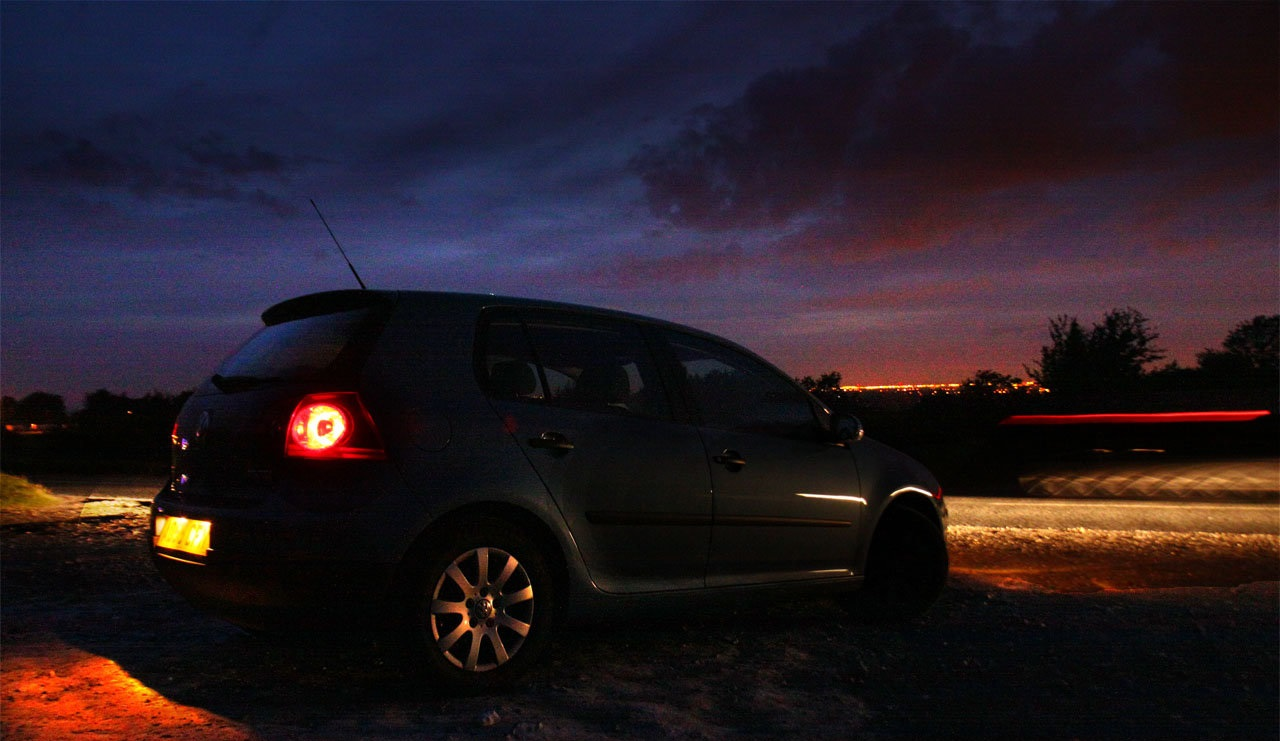car: (139, 245, 970, 694)
